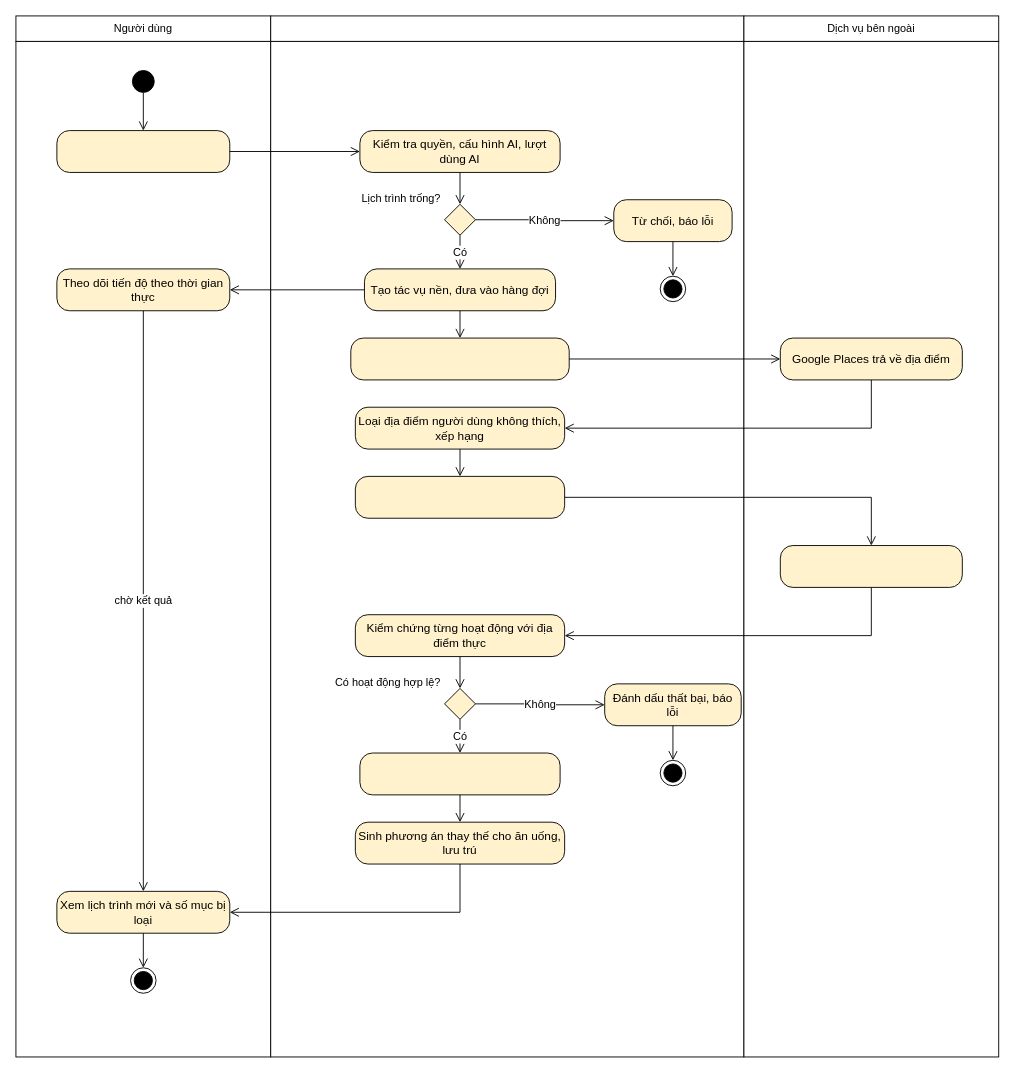
The diagram is 1015 pixels wide and 1073 high, and some of its shapes have lost their labels. The shapes that lost their labels are listed below. From the top down, each one's box as (x1, y1, x2, y2) in pixels, then its label:
(270, 15, 744, 41): Hệ thống
(56, 130, 230, 172): Nhấn “Tạo lịch trình AI”
(350, 337, 569, 380): Thu thập địa điểm thực theo điểm đến, chế độ ăn, sở thích
(354, 475, 565, 518): Lấy thời tiết từng ngày và tri thức điểm đến
(779, 545, 962, 587): Mô hình ngôn ngữ đề xuất lịch trình
(359, 752, 560, 795): Lưu đề xuất và áp dụng vào lịch trình
